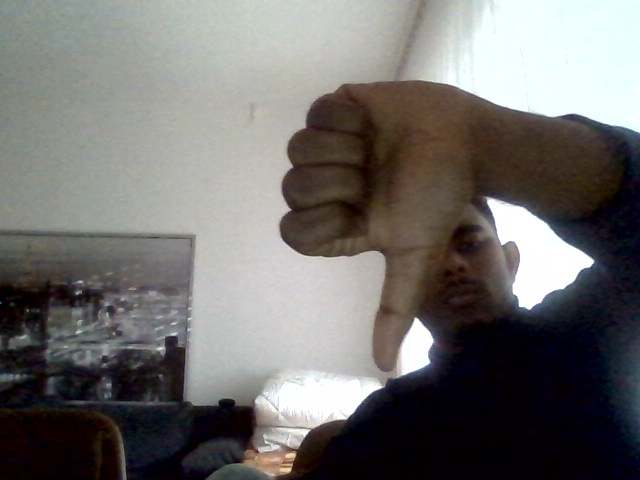td: (279, 81, 495, 373)
